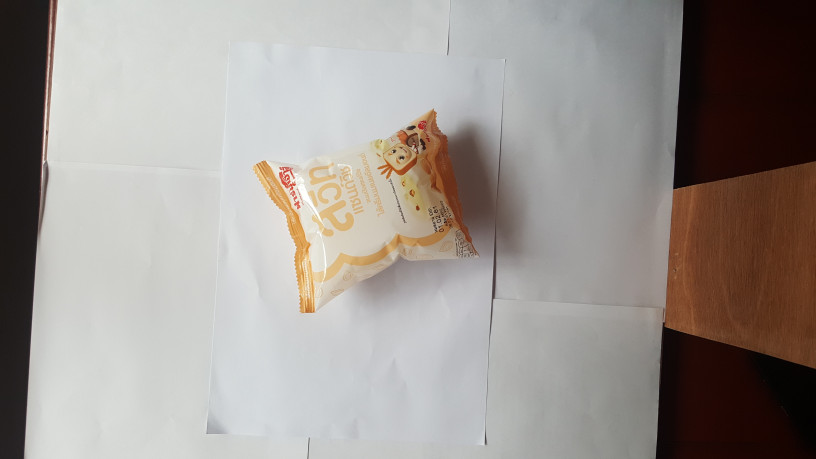farmhouse-sweetsandwich-almond: (251, 105, 483, 318)
